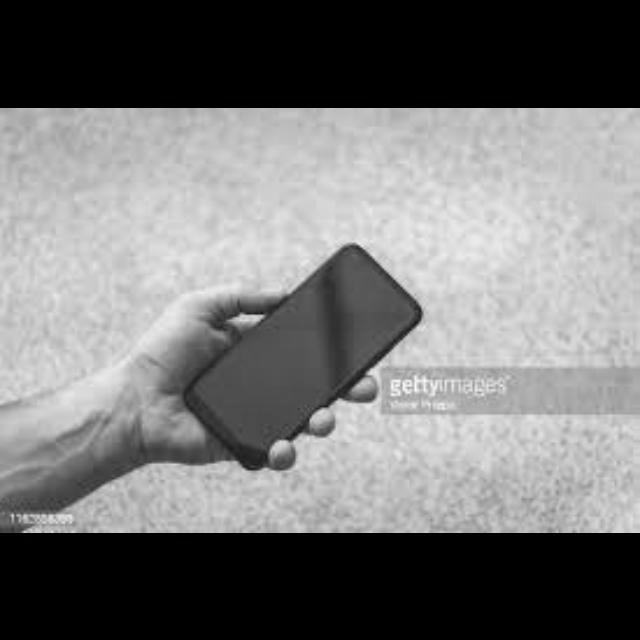fake: (179, 244, 423, 468)
